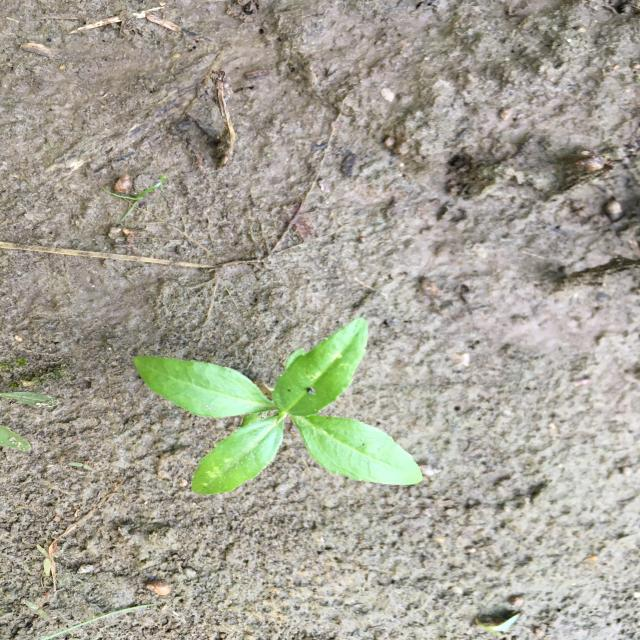Eclipta: (131, 316, 425, 496)
